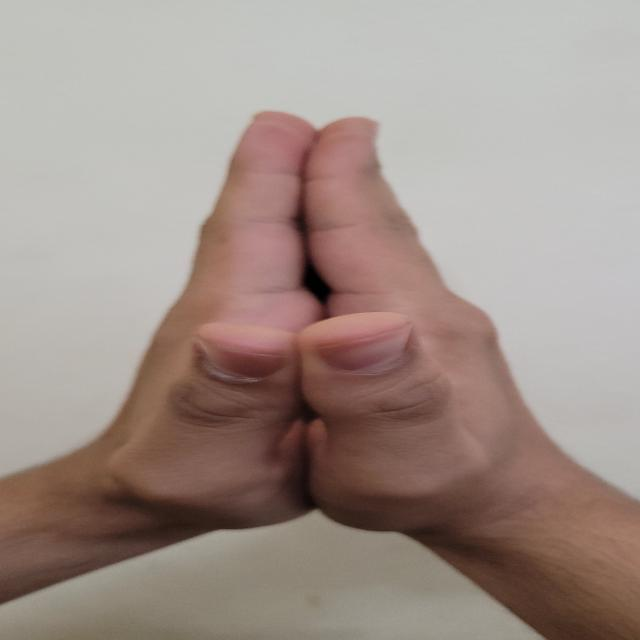Thank You: (8, 76, 565, 568)
